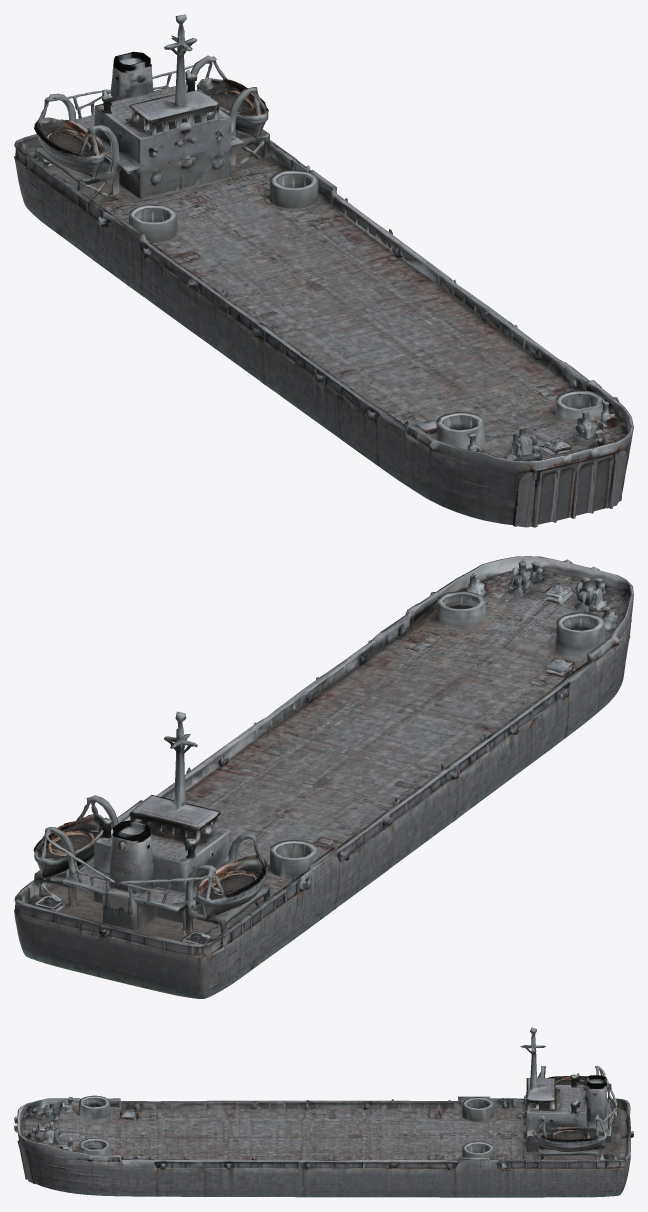
The model's file is vehicle-altalena-lst-1948-v2wl.fbx.
3 views of the same model, one above another, from view 1: azimuth 30°, elevation 25°; view 2: azimuth 150°, elevation 25°; view 3: azimuth 270°, elevation 25° (orthographic). The views are drawn at different scales.
Visible parts, largest first — view 1: body; view 2: body; view 3: body.
Part boxes in pixels (x1=…): body: x1=14, y1=14, x2=633, y2=527; body: x1=14, y1=556, x2=633, y2=998; body: x1=14, y1=1027, x2=633, y2=1197.
Bounding box in the file's own units: 0.2515 × 0.2441 × 0.9867.
Materials: 1 (1 with a texture image).
